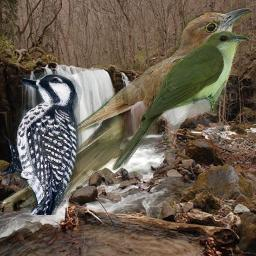Cuckoo: (0, 7, 253, 210), (112, 30, 249, 173)
Woodpecker: (1, 69, 82, 215)
